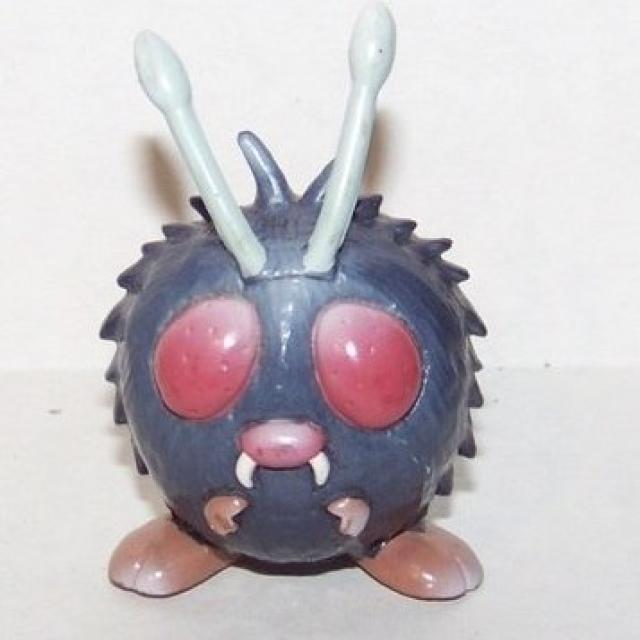Venonat: (103, 80, 485, 613)
